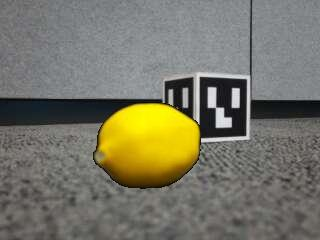lemon: (93, 103, 200, 187)
